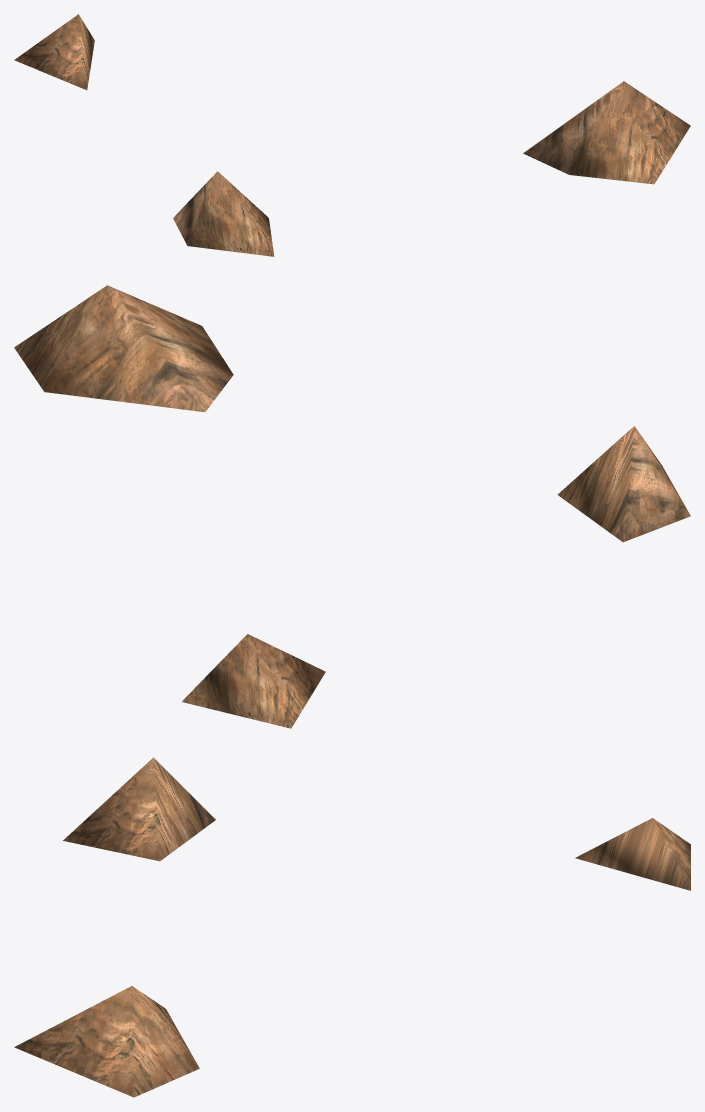
Rendered from rock_tatt_bensmesa_pebbles_a1_l4.fbx.
The picture shows the model from 3 angles, top to bottom: view 1: azimuth 30°, elevation 25°; view 2: azimuth 150°, elevation 25°; view 3: azimuth 270°, elevation 25°; orthographic projection. The views are drawn at different scales.
Visible parts, largest first — view 1: mesh_node; view 2: mesh_node; view 3: mesh_node.
Part boxes in pixels (bbox=[...]): mesh_node: bbox=[14, 14, 690, 256]; mesh_node: bbox=[14, 285, 690, 728]; mesh_node: bbox=[14, 757, 690, 1097].
Size of the model in its own units: 1.21 by 0.143 by 1.2.
